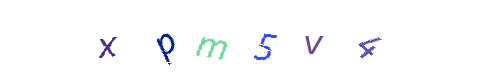4: (225, 0, 305, 80)
5: (211, 0, 291, 80)
M: (205, 0, 285, 80)
P: (172, 0, 252, 80)
V: (212, 0, 292, 80)
X: (126, 0, 206, 80)
